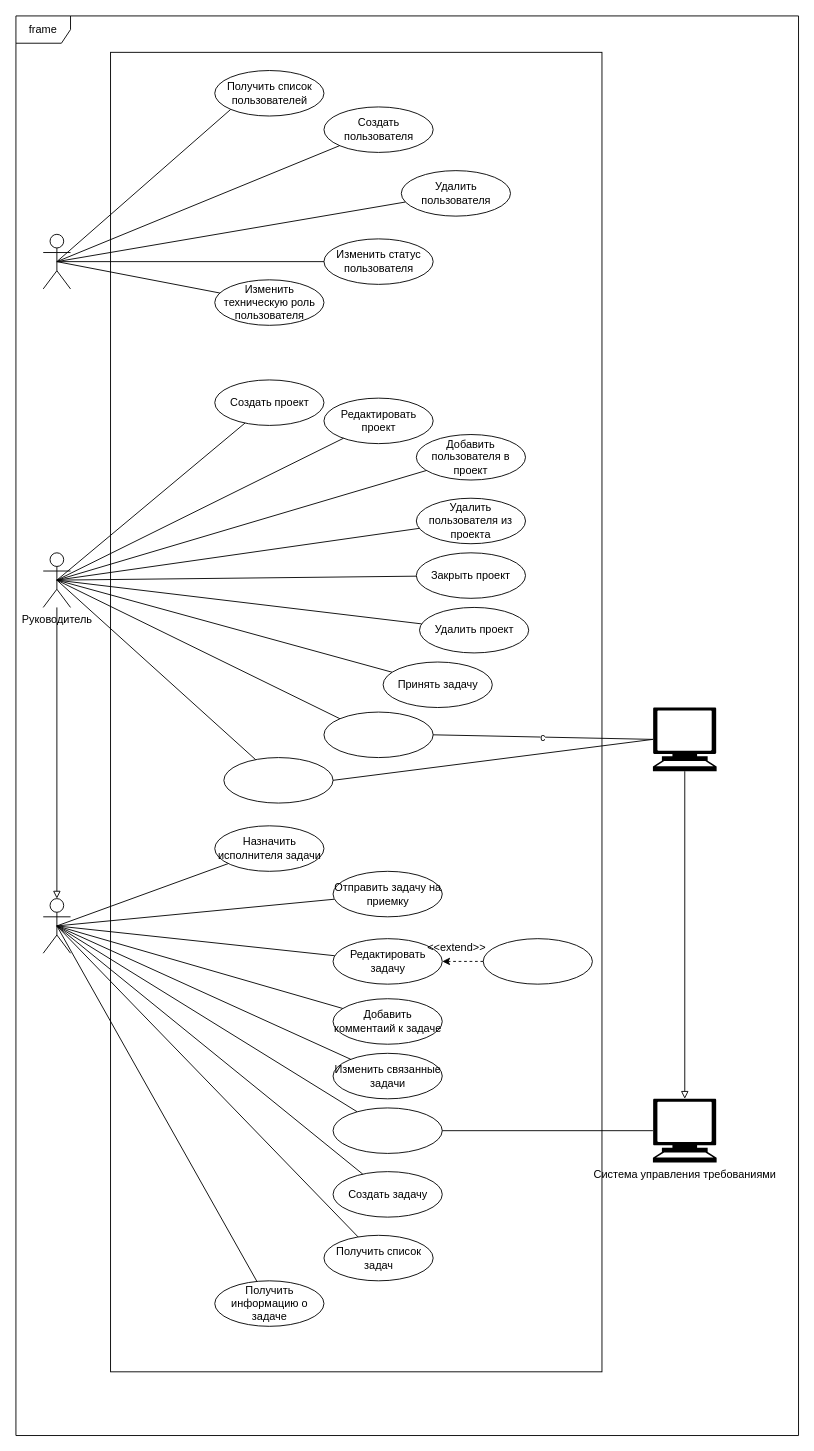
The diagram is 814 pixels wide and 1451 high, and some of its shapes have lost their labels. The shapes that lost their labels are listed below. From the top down, each one's centre as x and y in pixels, then its label:
At [56,261]: "Администратор".
At [378,734]: "Получить список проектов".
At [684,739]: "Система управления тестированием".
At [278,780]: "Получить информацию о проекте".
At [56,925]: "Пользователь".
At [537,961]: "Изменить статус".
At [387,1130]: "Изменить требования задачи".
